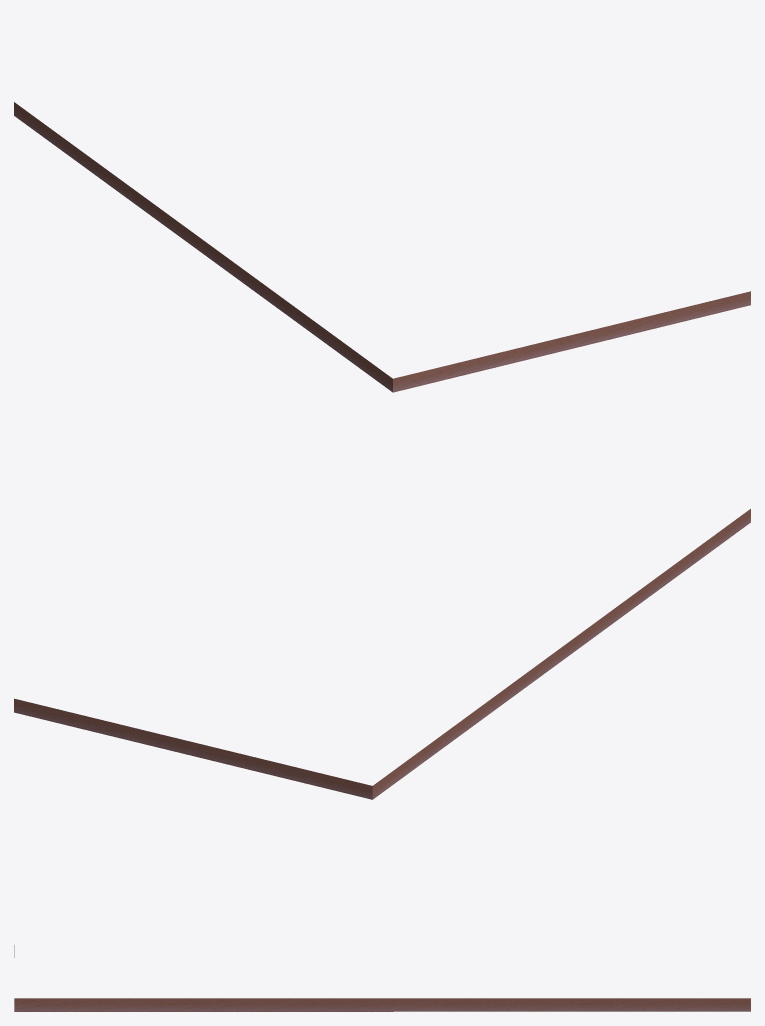
The picture shows the model from 3 angles, top to bottom: view 1: azimuth 30°, elevation 25°; view 2: azimuth 150°, elevation 25°; view 3: azimuth 270°, elevation 25°; orthographic projection. The views are drawn at different scales.
Parts seen in each view (by area): view 1: Joint_0_Object_0; view 2: Joint_0_Object_0; view 3: Joint_0_Object_0.
Part boxes in pixels (x1,y1,x2,y2): Joint_0_Object_0: [14, 102, 750, 392]; Joint_0_Object_0: [14, 509, 750, 799]; Joint_0_Object_0: [14, 945, 750, 1011].
Size of the model in its own units: 1340 by 49.67 by 2451.
Materials: 1 (1 with a texture image).
